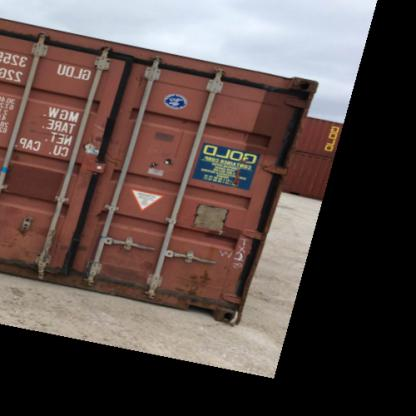Damage: (11, 215, 71, 269), (83, 113, 130, 172), (174, 257, 215, 307), (186, 196, 237, 235), (126, 248, 156, 282), (147, 147, 179, 171)
